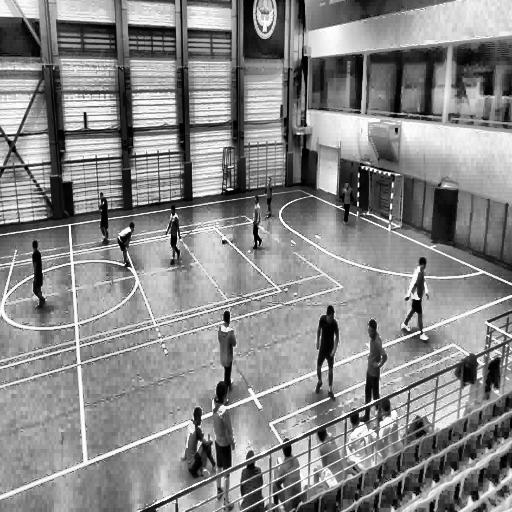ball: (221, 237, 228, 247)
player: (210, 382, 235, 508), (314, 304, 339, 401), (402, 255, 429, 336), (364, 318, 386, 417), (218, 308, 236, 395), (164, 203, 182, 265), (32, 240, 47, 308), (117, 222, 135, 268), (250, 195, 262, 252), (98, 194, 110, 244), (341, 180, 353, 226), (265, 177, 274, 219)
